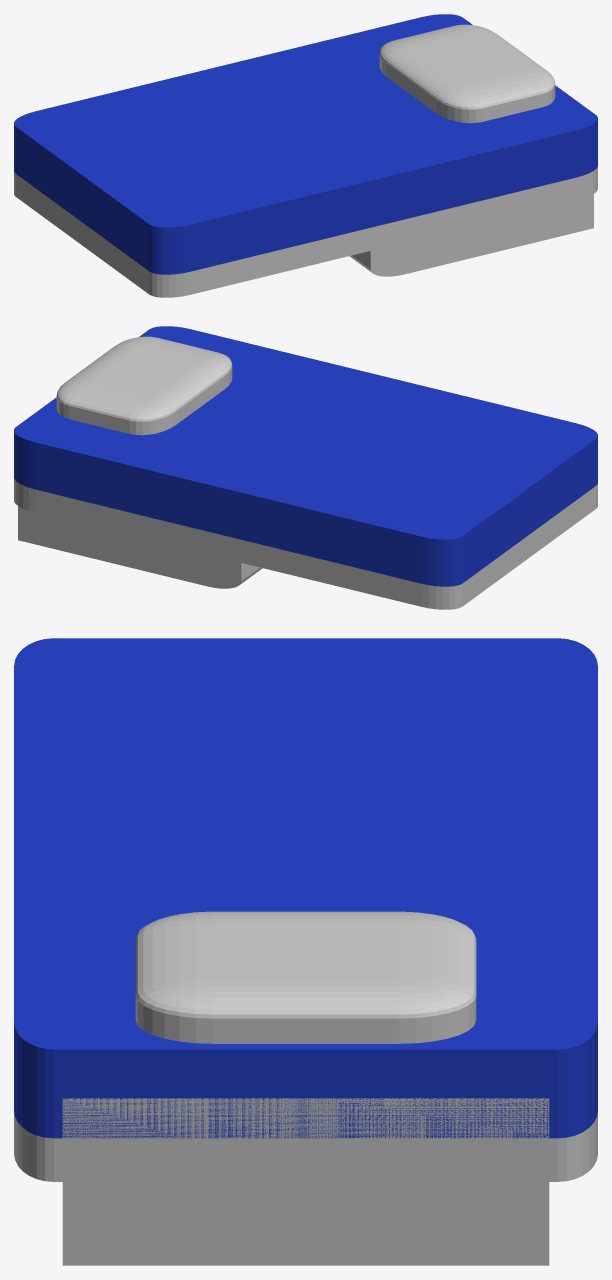
The model's file is bed.obj.
The picture shows the model from 3 angles, top to bottom: view 1: azimuth 30°, elevation 25°; view 2: azimuth 150°, elevation 25°; view 3: azimuth 270°, elevation 25°; orthographic projection. The views are drawn at different scales.
Parts seen in each view (by area): view 1: Cube.002_Cube.002_Material, Cube.002_Cube.002_Material.002, Cube.002_Cube.002_Material.001; view 2: Cube.002_Cube.002_Material, Cube.002_Cube.002_Material.002, Cube.002_Cube.002_Material.001; view 3: Cube.002_Cube.002_Material, Cube.002_Cube.002_Material.002, Cube.002_Cube.002_Material.001.
Boxes of the visible parts, x1,y1,x2,y2 form: Cube.002_Cube.002_Material: (14,14,597,274); Cube.002_Cube.002_Material.002: (349,24,593,276); Cube.002_Cube.002_Material.001: (14,167,597,297); Cube.002_Cube.002_Material: (14,326,597,586); Cube.002_Cube.002_Material.002: (18,336,262,588); Cube.002_Cube.002_Material.001: (14,479,597,609); Cube.002_Cube.002_Material: (14,638,597,1138); Cube.002_Cube.002_Material.002: (62,911,549,1265); Cube.002_Cube.002_Material.001: (14,1111,597,1181).
Bounding box in the file's own units: 4 × 1.16 × 2.4.
